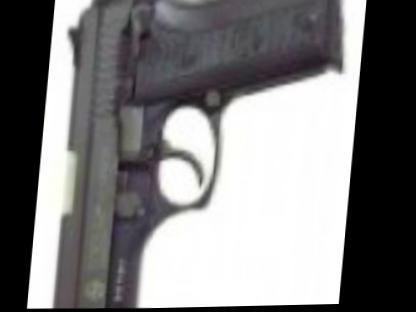pistol: (43, 0, 343, 310)
